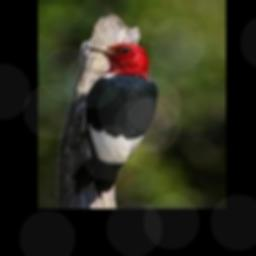Woodpecker: (74, 43, 161, 197)
